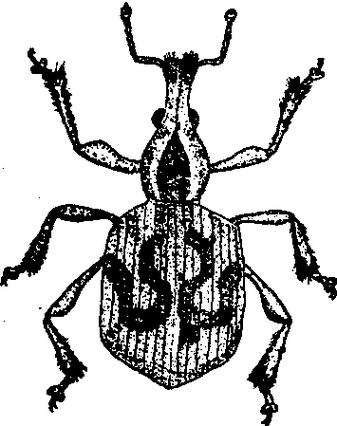Curculionidae: (1, 1, 337, 426)
